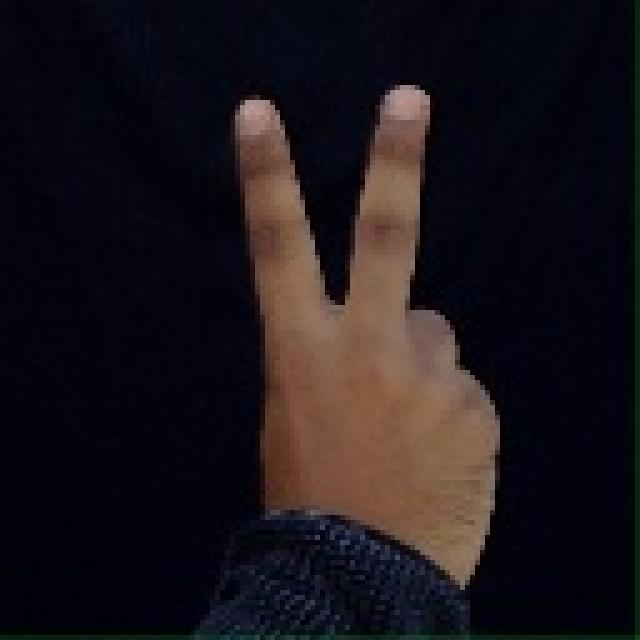Alphabet-V: (198, 33, 514, 605)
